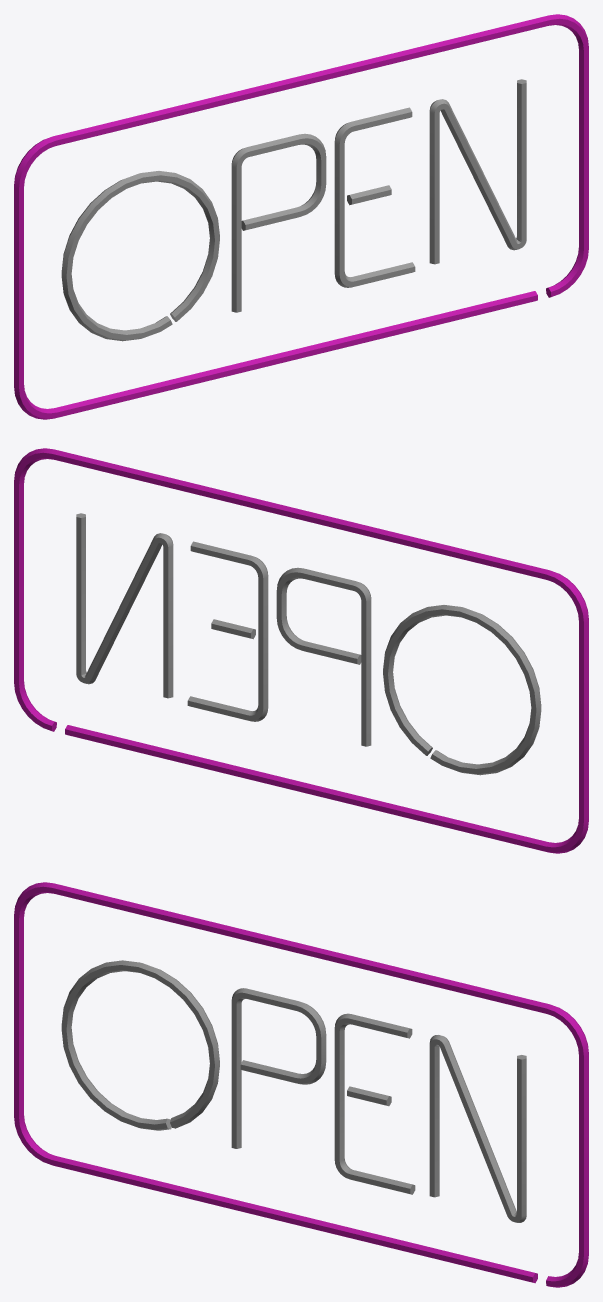
The model's file is neon_open_sign.FBX.
3 views of the same model, one above another, from view 1: azimuth 30°, elevation 25°; view 2: azimuth 150°, elevation 25°; view 3: azimuth 330°, elevation 25° (orthographic).
Visible parts, largest first — view 1: open_neon_sign; view 2: open_neon_sign; view 3: open_neon_sign.
Part boxes in pixels (left/top/right/bottom): open_neon_sign: left=14, top=14, right=588, bottom=419; open_neon_sign: left=14, top=448, right=588, bottom=853; open_neon_sign: left=14, top=882, right=588, bottom=1287.
Size of the model in its own units: 77.09 by 36.2 by 1.16.
